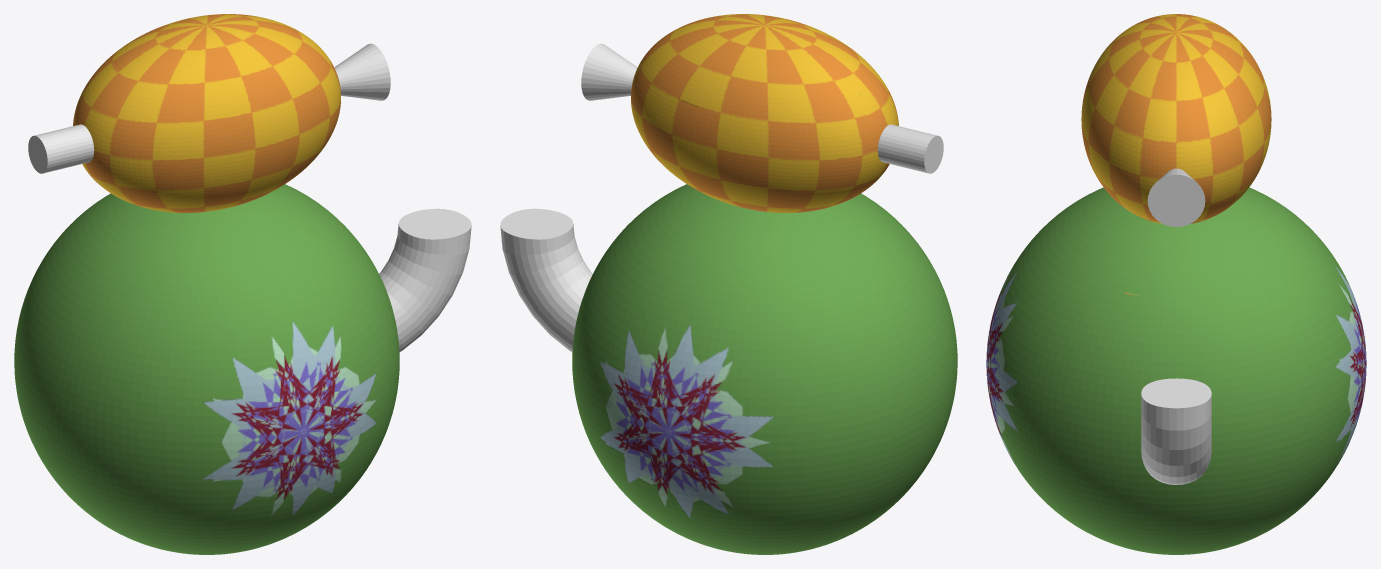
Rendered from BOD0_BMC3_BCC7_BPT0_FRC19_HEA1_HMC6_HCC5_HPT4_ELT1_ERT3_ELL1_ERL1_AP2_AAL1_AAR2_BEK0.fbx.
3 renders of one model, left to right at view 1: azimuth 30°, elevation 25°; view 2: azimuth 150°, elevation 25°; view 3: azimuth 270°, elevation 25°, orthographic.
Parts seen in each view (by area): view 1: Body, Arm, Ear, Ear.001; view 2: Body, Arm, Ear, Ear.001; view 3: Body, Arm, Ear.001.
Part boxes in pixels (bbox=[...]): Body: bbox=[14, 14, 399, 554]; Arm: bbox=[379, 208, 471, 351]; Ear: bbox=[28, 124, 94, 173]; Ear.001: bbox=[334, 43, 390, 100]; Body: bbox=[572, 14, 957, 554]; Arm: bbox=[500, 208, 592, 351]; Ear: bbox=[877, 124, 943, 173]; Ear.001: bbox=[581, 43, 637, 100]; Body: bbox=[986, 14, 1366, 554]; Arm: bbox=[1141, 378, 1211, 484]; Ear.001: bbox=[1147, 168, 1205, 226].
Size of the model in its own units: 63.31 by 72.41 by 49.36.
Materials: 1 (1 with a texture image).
